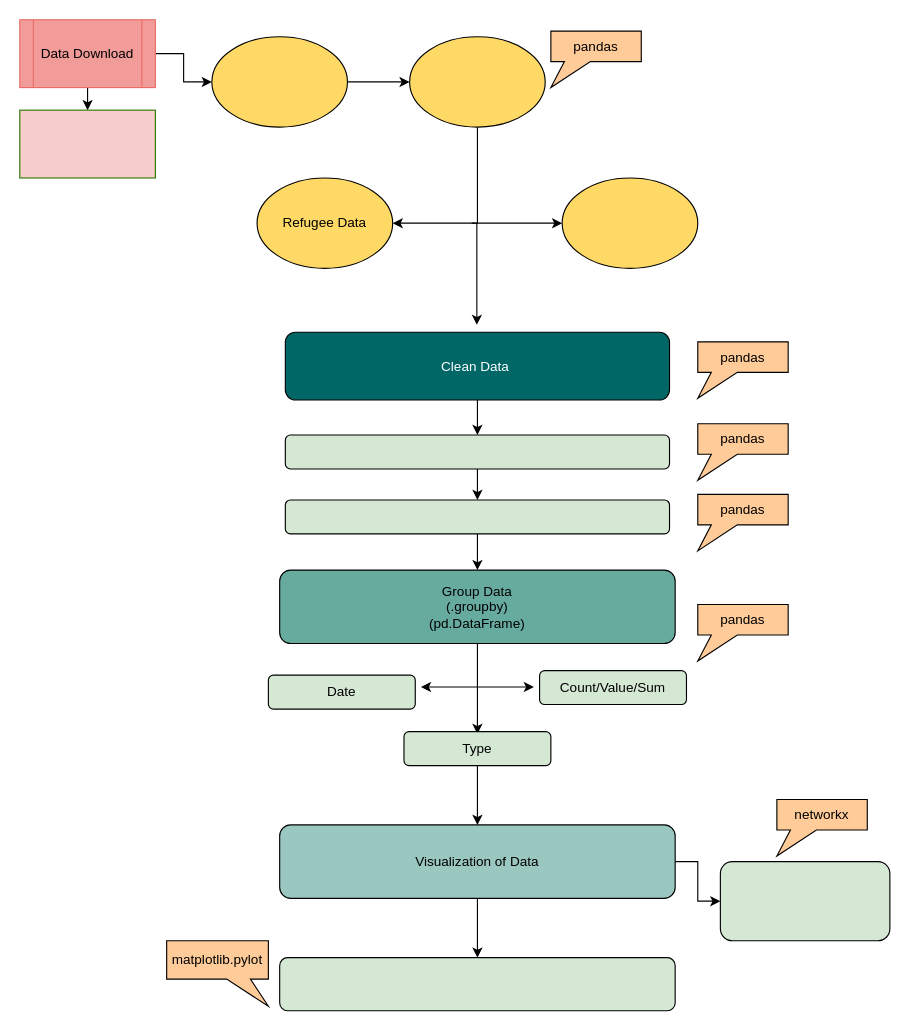
Some shapes in this 910 by 1031 pixel diagram are drawn without their labels. The centre of each missing label's shape, as x and y in pixels:
"Aid Data" goes at [629,222].
"Aid Data: Network (.add_nodes)" goes at [804,900].
"Bar Graphs (.plot)" goes at [477,984].
"Convert data types for grouping, counting" goes at [477,516].
"Create Colab notebook" goes at [279,81].
"Save locally as Excel" goes at [87,143].
"Select columns" goes at [477,451].
"Upload all raw data to Colab" goes at [476,81].
